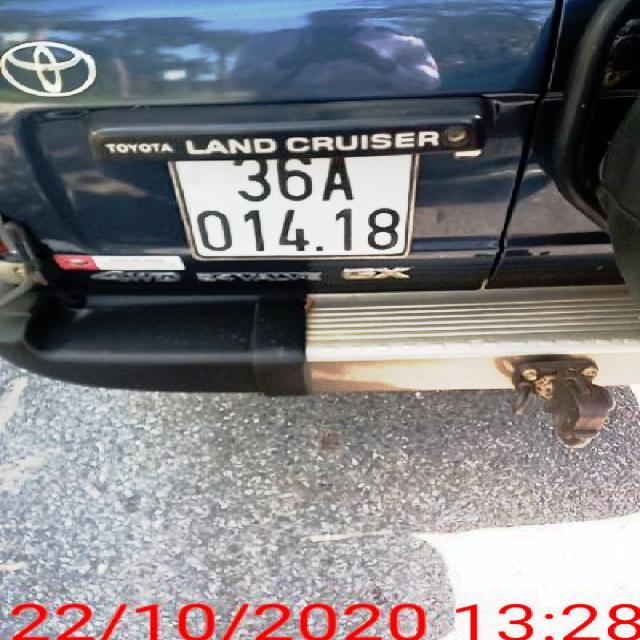license_plate: (174, 155, 415, 257)
